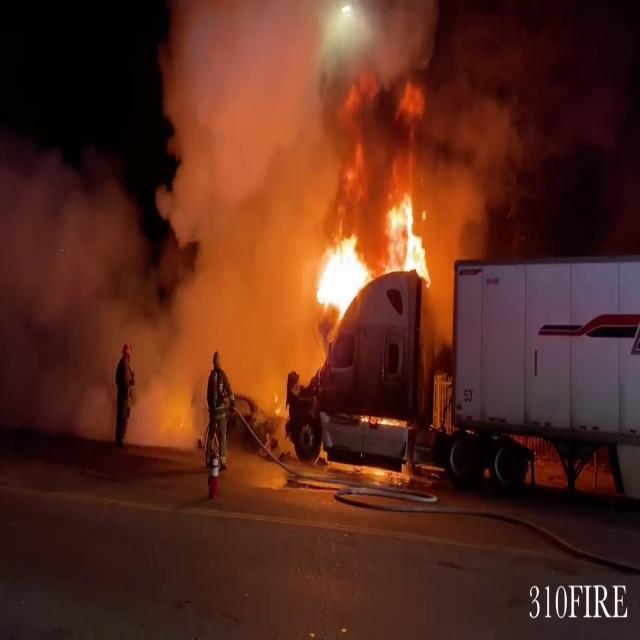Fire: (306, 226, 374, 322), (386, 190, 436, 288)
Smoke: (0, 0, 328, 446)
